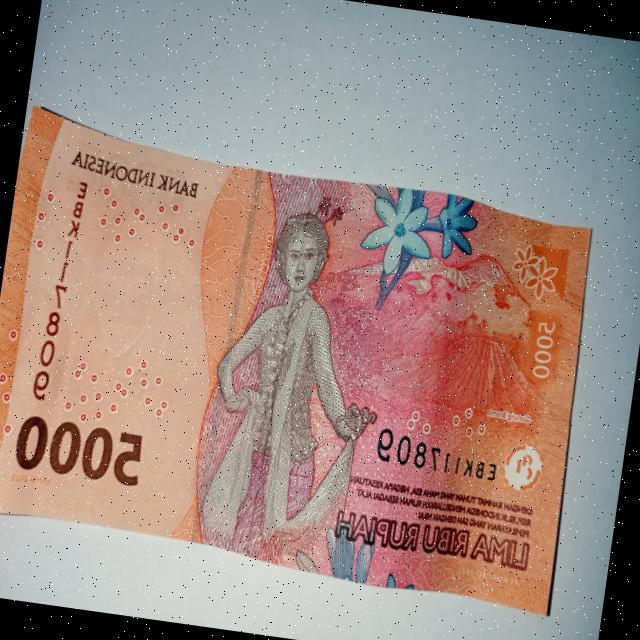5K: (0, 92, 617, 633)
